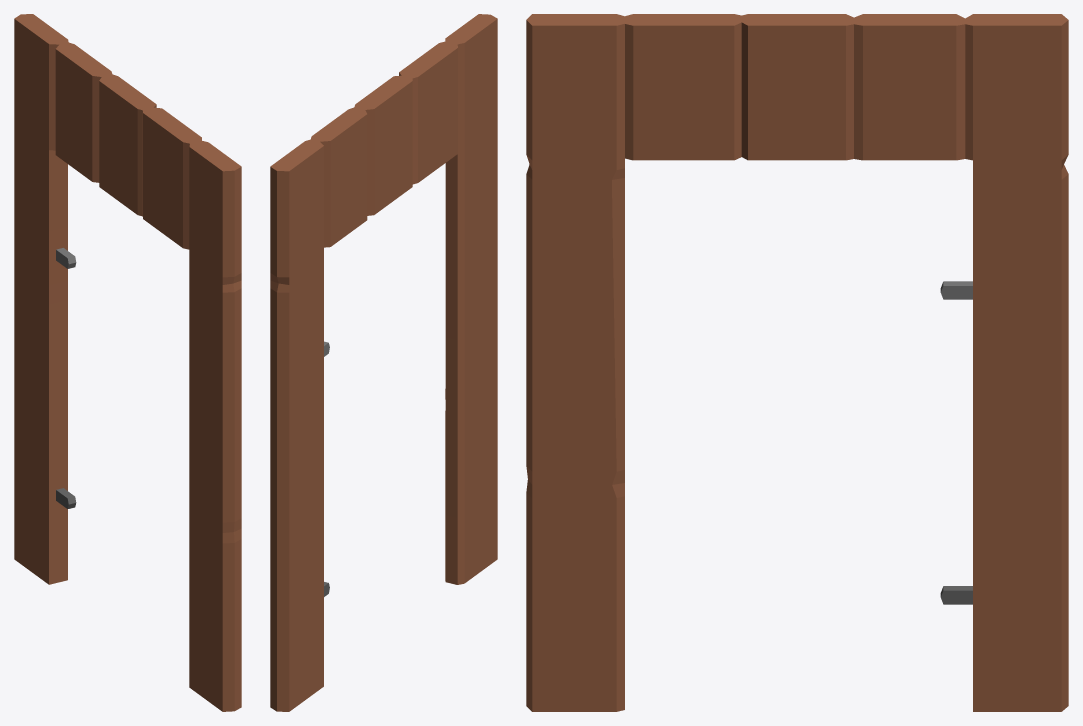
The model's file is Door_Wall.fbx.
The picture shows the model from 3 angles, left to right: view 1: azimuth 30°, elevation 25°; view 2: azimuth 150°, elevation 25°; view 3: azimuth 270°, elevation 25°; orthographic projection. The views are drawn at different scales.
Visible parts, largest first — view 1: woodWallwithDoor; view 2: woodWallwithDoor; view 3: woodWallwithDoor.
Boxes of the visible parts, x1,y1,x2,y2 form: woodWallwithDoor: (14, 14, 241, 711); woodWallwithDoor: (270, 14, 497, 711); woodWallwithDoor: (526, 14, 1068, 711).
Size of the model in its own units: 0.5506 by 14.94 by 10.7.
